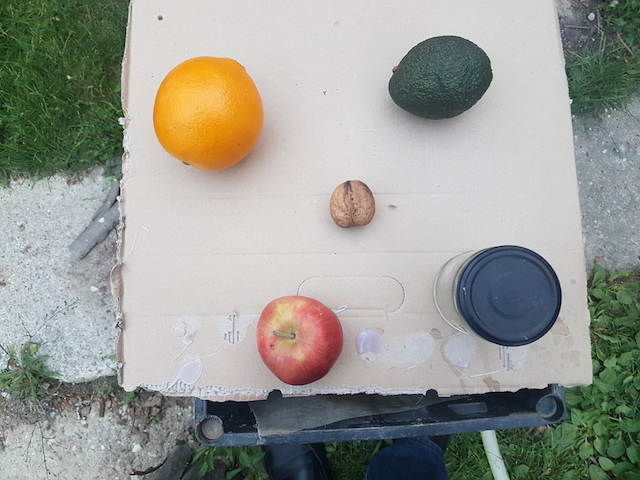apple: (255, 294, 346, 388)
avocado: (387, 35, 494, 121)
nut: (325, 178, 379, 229)
orange: (153, 55, 263, 175)
recipient: (455, 243, 562, 348)
